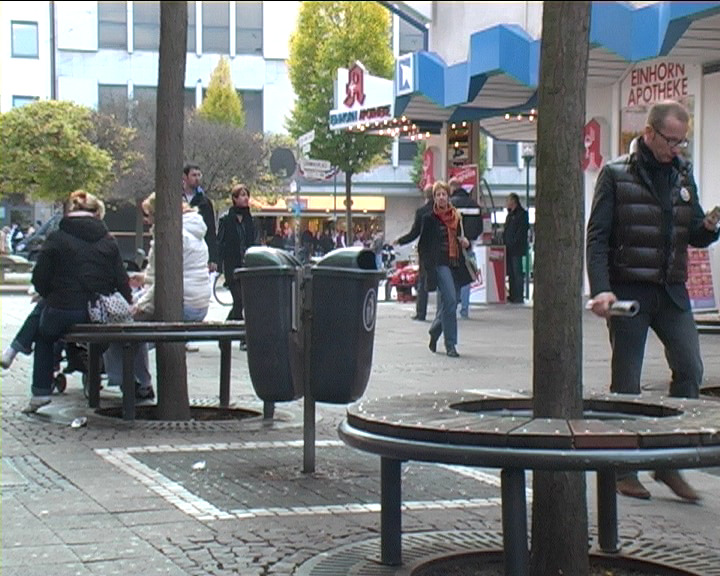undeflect: (621, 102, 707, 199), (424, 178, 470, 241)
